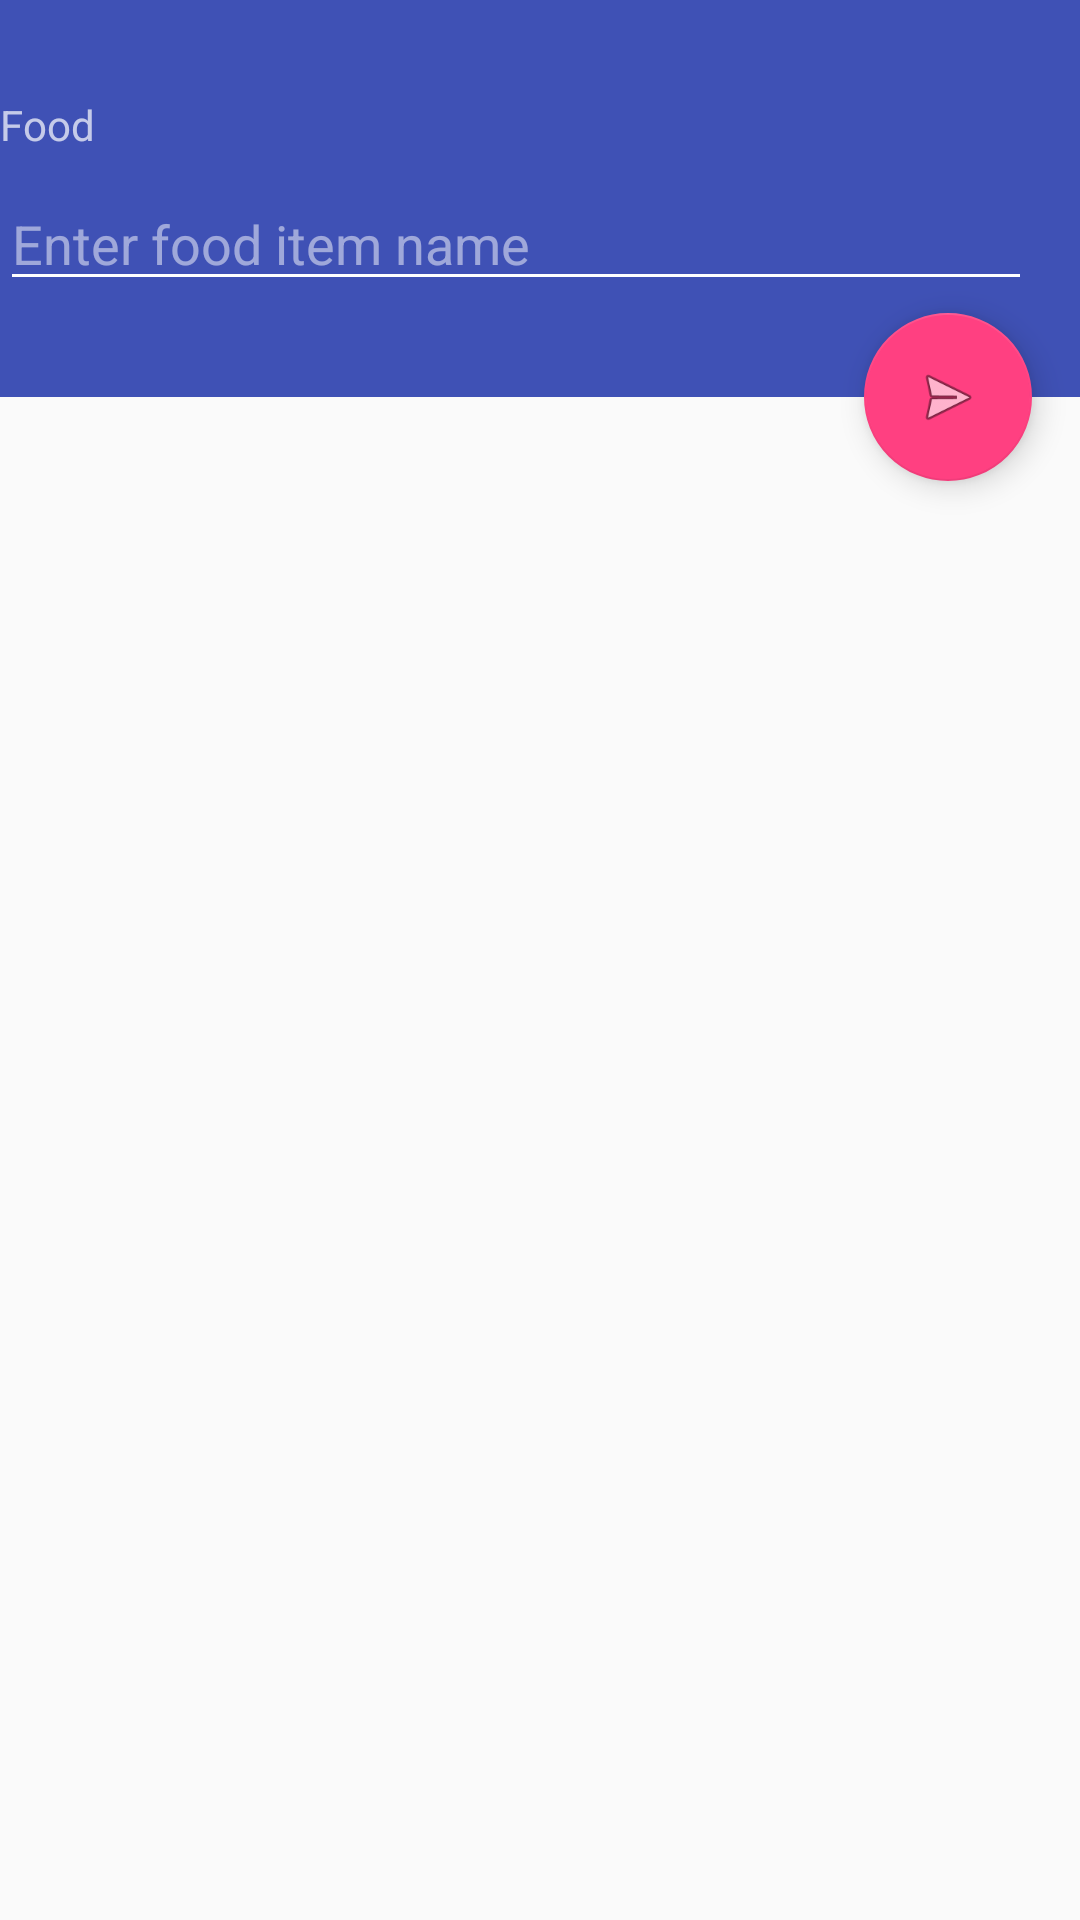

Icons on this 1080w x 1920h Android screen, each with the point to tap as [x,y]:
send: [948,397]
